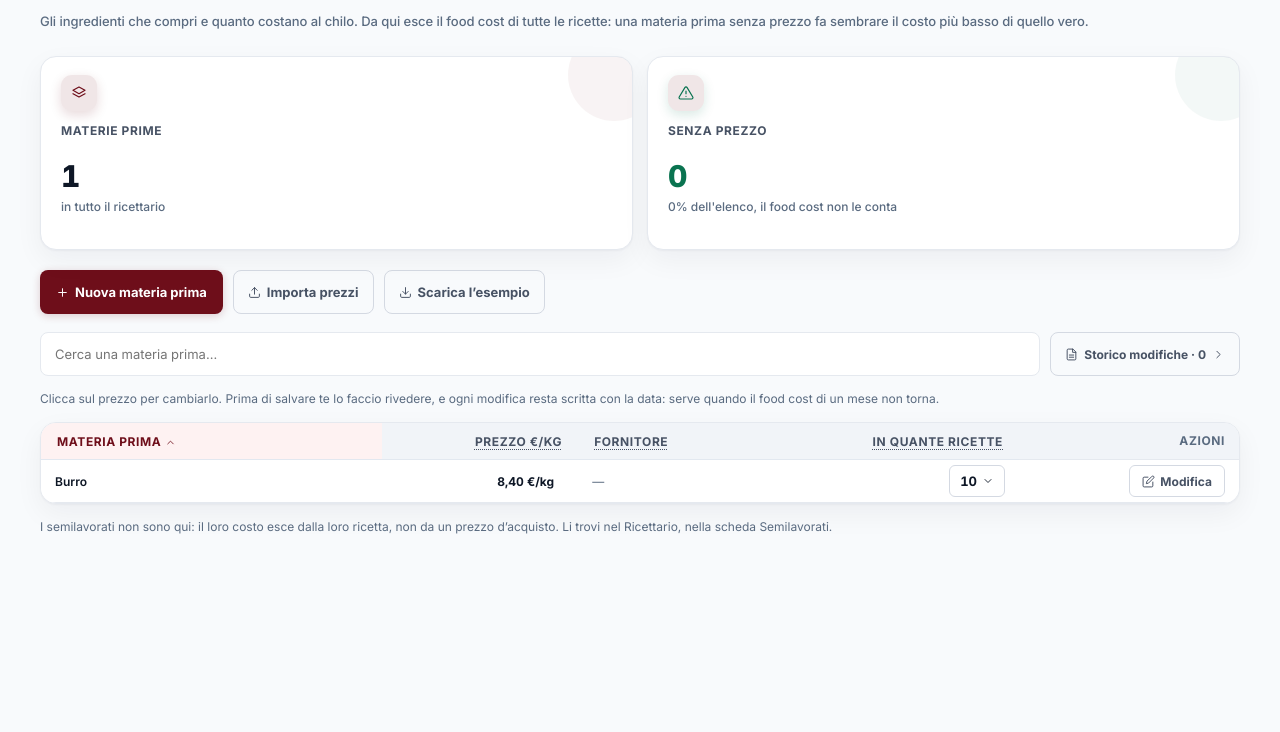
Test case: dove sta «Nuova materia prima» › c’è posto accanto per gli altri due comandi, e si apre il modulo
Click the button "Nuova materia prima": (131, 292) [40,270,223,314]
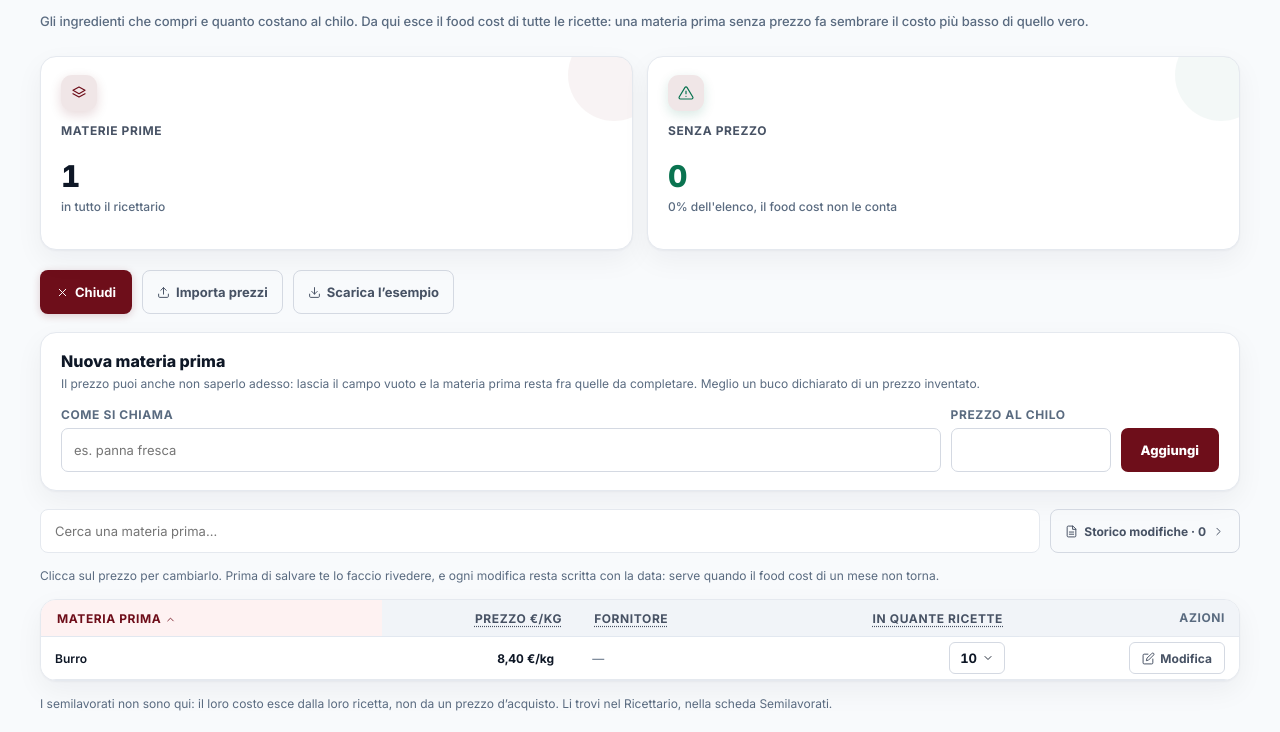
Check: the field labelled "Come si chiama" is shown, box [61,428,941,472]
